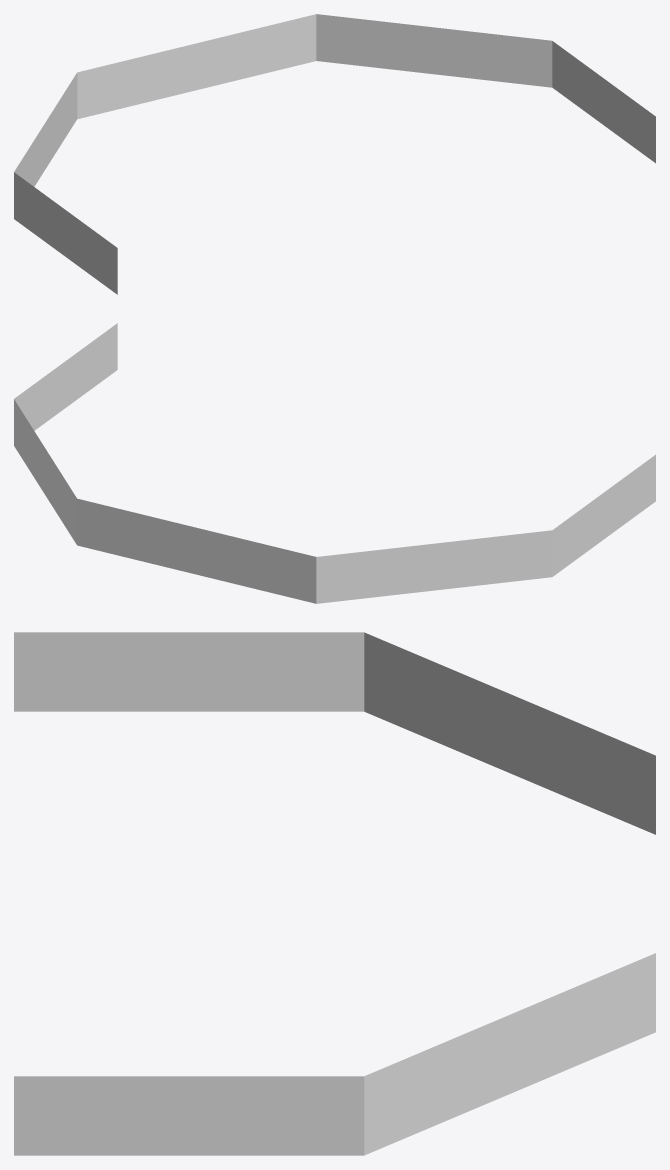
The model's file is Block42.fbx.
3 views of the same model, one above another, from view 1: azimuth 30°, elevation 25°; view 2: azimuth 150°, elevation 25°; view 3: azimuth 270°, elevation 25° (orthographic). The views are drawn at different scales.
Parts seen in each view (by area): view 1: Lab_Wall_Red; view 2: Lab_Wall_Red; view 3: Lab_Wall_Red.
Part boxes in pixels (x1,y1,x2,y2): Lab_Wall_Red: [14, 14, 655, 294]; Lab_Wall_Red: [14, 323, 655, 603]; Lab_Wall_Red: [14, 632, 655, 1155].
Size of the model in its own units: 36 by 3 by 22.
Materials: 1 (1 with a texture image).
